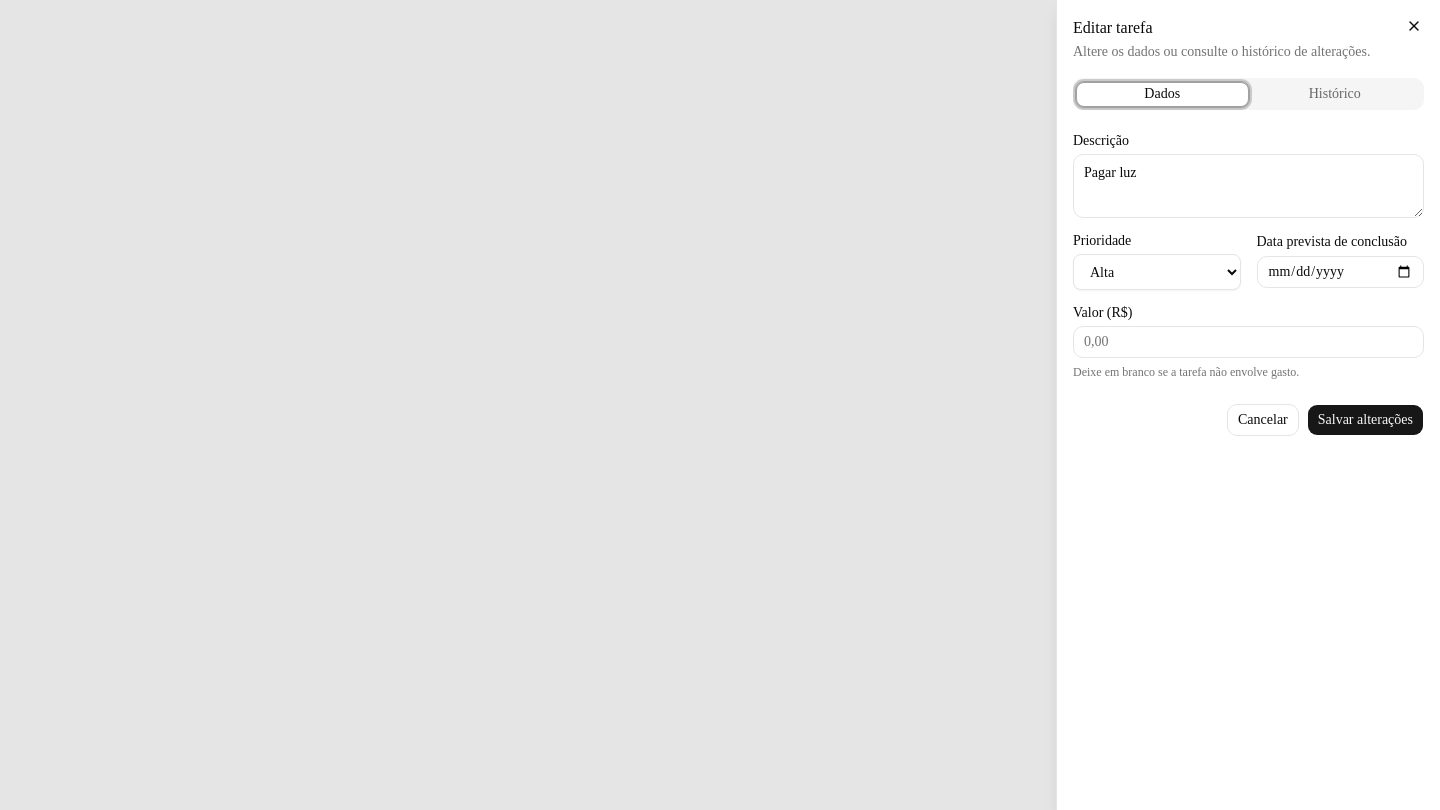
DrawerTarefa › deve exibir erro ao falhar o carregamento do histórico
This screenshot has width=1440, height=810.
What coordinates should you click on to do the following:
click the tab "Histórico"
I would click on:
 (1335, 94)
Its box is [1248,82,1421,106].
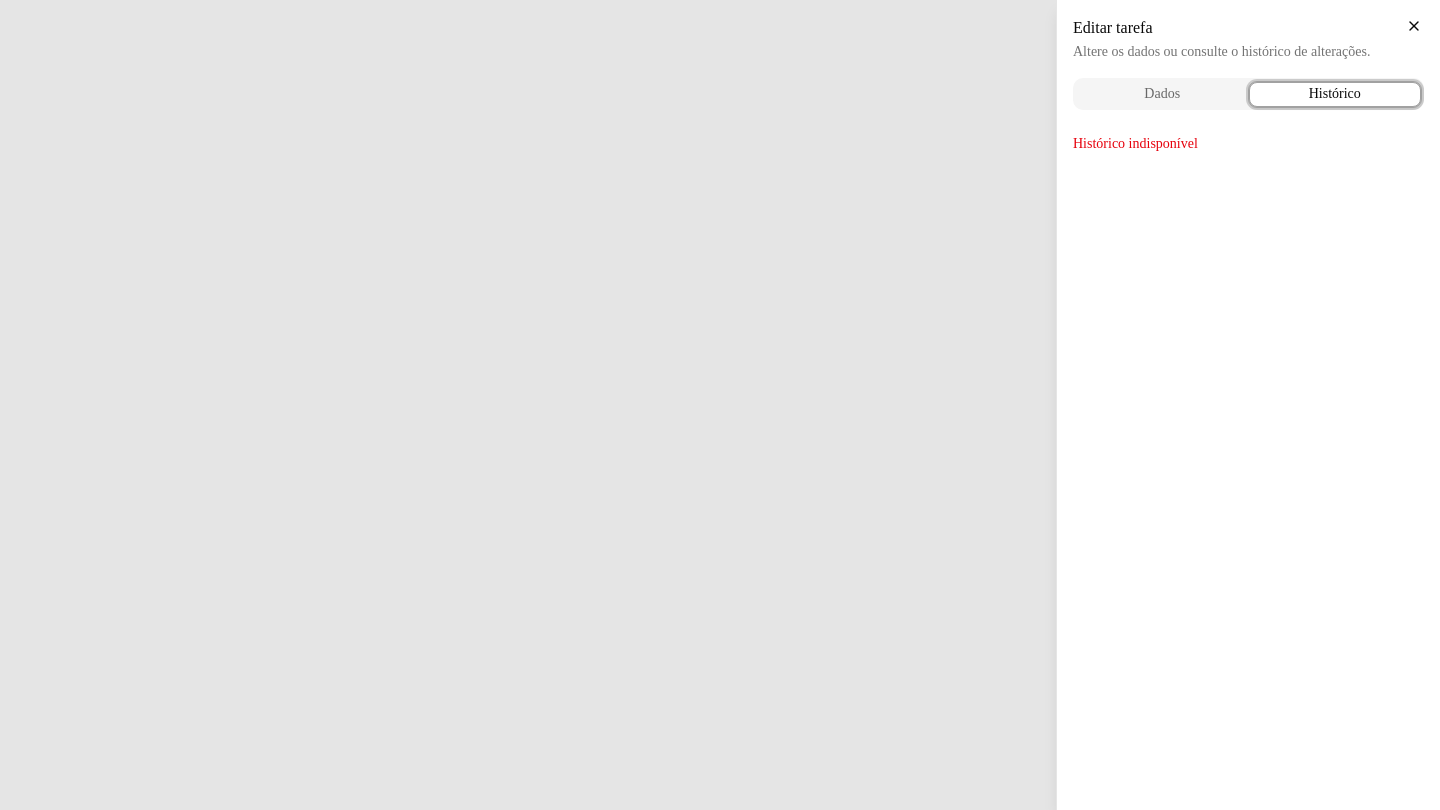
Expected: the message reads "Histórico indisponível", [1073,136,1198,151]
